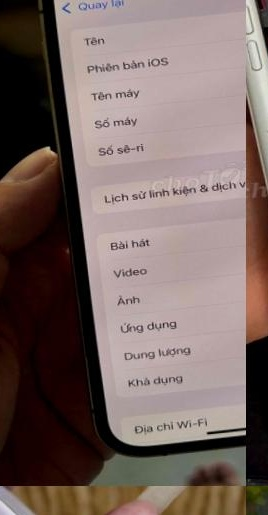scratch: (254, 120, 268, 154)
